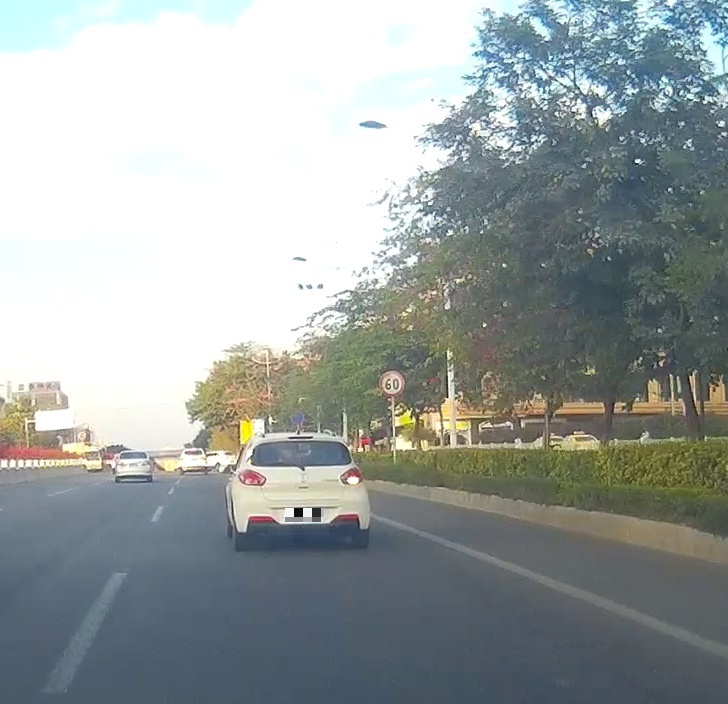L_light: (237, 469, 267, 486), (116, 462, 124, 467)
R_light: (339, 466, 364, 485), (141, 460, 151, 466)
T_light: (286, 436, 314, 440), (129, 451, 137, 453)
day-no: (115, 450, 153, 483)
day-right: (233, 433, 371, 548)
plate_1: (285, 508, 324, 522)
